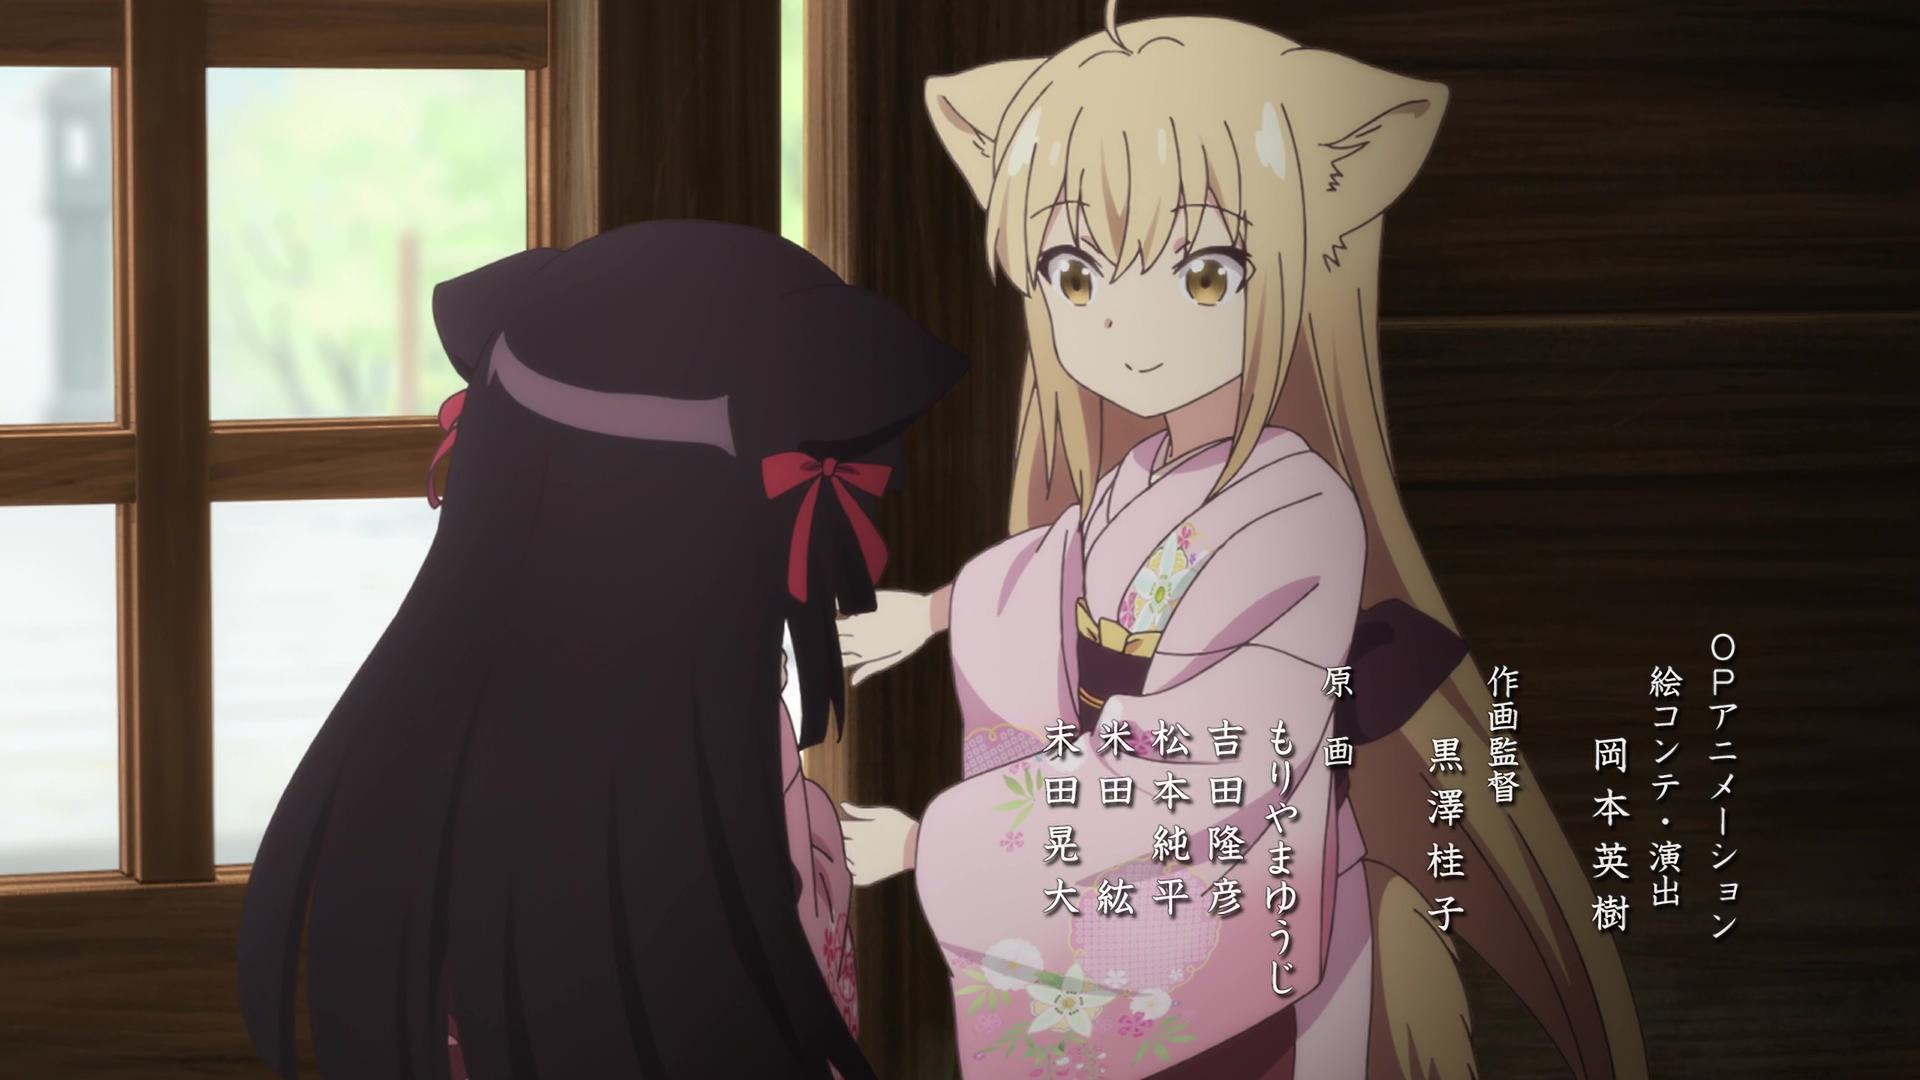柚: (833, 1, 1655, 1080)
樱: (236, 219, 972, 1080)
